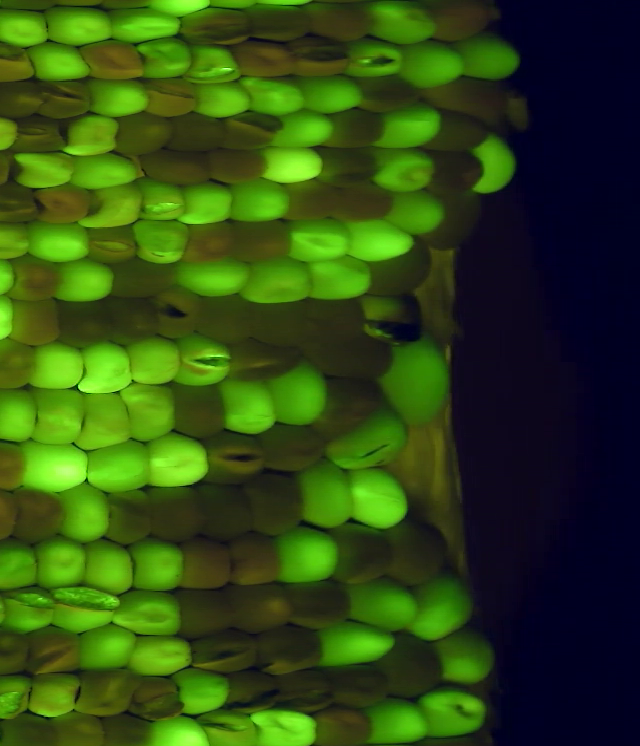fluorescent: (381, 336, 450, 430), (325, 415, 412, 473), (345, 463, 412, 531), (295, 463, 359, 531), (20, 438, 94, 496), (409, 578, 475, 643), (72, 388, 135, 453), (271, 360, 331, 428), (50, 578, 120, 636), (271, 528, 343, 584), (110, 586, 188, 637), (416, 689, 496, 738), (142, 435, 212, 490), (436, 628, 499, 689), (57, 486, 117, 548), (219, 379, 281, 438), (124, 535, 186, 594), (86, 442, 159, 492), (345, 579, 419, 628), (78, 536, 137, 597), (369, 100, 437, 152), (318, 621, 395, 666), (171, 334, 234, 388), (33, 535, 93, 591), (399, 38, 466, 88), (118, 387, 179, 441), (471, 133, 522, 197), (383, 189, 449, 238), (33, 385, 85, 447), (345, 216, 415, 261), (363, 1, 438, 43), (454, 36, 524, 81), (241, 259, 308, 305), (84, 76, 152, 121), (365, 700, 433, 745), (49, 258, 116, 303), (306, 256, 372, 301), (129, 631, 195, 676), (247, 708, 324, 746), (170, 666, 232, 713), (296, 73, 365, 115), (27, 342, 86, 391), (0, 584, 59, 633), (178, 259, 254, 297), (238, 73, 305, 116), (227, 179, 292, 223), (288, 218, 353, 262), (75, 624, 137, 670), (24, 219, 90, 262), (44, 6, 115, 45), (375, 148, 437, 192), (132, 218, 191, 264), (27, 42, 93, 83), (189, 79, 253, 120), (64, 115, 125, 158), (126, 338, 183, 383), (79, 188, 143, 228), (176, 182, 234, 226), (81, 343, 133, 392), (261, 143, 323, 184), (184, 40, 240, 85), (108, 7, 182, 41), (134, 177, 191, 220), (69, 151, 137, 187), (272, 112, 338, 149), (342, 40, 404, 79), (135, 37, 192, 79), (198, 709, 262, 746), (18, 151, 75, 190), (0, 387, 41, 441), (0, 538, 40, 593), (0, 8, 50, 48), (145, 721, 210, 746), (0, 673, 32, 720), (0, 218, 30, 259), (146, 1, 210, 15), (209, 1, 256, 7), (253, 1, 311, 5)
nonfluorescent: (380, 515, 452, 588), (423, 78, 516, 127), (374, 635, 446, 698), (317, 373, 383, 441), (306, 331, 396, 379), (194, 479, 259, 544), (242, 474, 309, 537), (254, 418, 329, 474), (327, 526, 394, 586), (194, 432, 266, 487), (366, 239, 433, 298), (253, 622, 326, 676), (222, 335, 304, 382), (147, 482, 207, 545), (226, 582, 295, 634), (13, 487, 69, 551), (285, 580, 356, 629), (193, 294, 261, 345), (170, 382, 230, 438), (185, 628, 259, 673), (303, 1, 375, 47), (24, 624, 84, 679), (425, 1, 495, 47), (75, 665, 136, 717), (431, 191, 484, 250), (238, 1, 316, 41), (246, 299, 311, 347), (177, 539, 233, 594), (287, 35, 352, 82), (106, 257, 177, 300), (171, 588, 233, 637), (179, 5, 253, 45), (423, 108, 490, 152), (329, 665, 396, 708), (229, 39, 301, 79), (301, 297, 365, 342), (78, 41, 146, 83), (105, 490, 156, 546), (154, 286, 204, 343), (308, 704, 375, 746), (230, 534, 283, 587), (8, 299, 67, 346), (109, 110, 172, 154), (275, 670, 338, 713), (141, 150, 214, 187), (232, 220, 294, 263), (106, 297, 159, 347), (427, 149, 484, 195), (57, 298, 107, 350), (314, 146, 382, 184), (358, 73, 421, 113), (333, 181, 395, 221), (283, 180, 339, 224), (133, 675, 185, 722), (205, 147, 271, 184), (331, 106, 386, 150), (9, 254, 60, 301), (35, 185, 93, 226), (224, 673, 282, 713), (221, 114, 284, 150), (15, 117, 70, 158), (179, 222, 235, 262), (171, 113, 226, 152), (84, 225, 139, 264), (143, 79, 197, 118), (41, 78, 91, 120), (53, 710, 111, 746), (0, 714, 60, 746), (0, 79, 46, 120), (97, 711, 150, 746), (0, 341, 36, 391), (0, 627, 31, 681), (0, 185, 40, 225), (0, 42, 38, 83), (0, 1, 58, 11), (49, 1, 106, 10), (103, 1, 151, 10)
